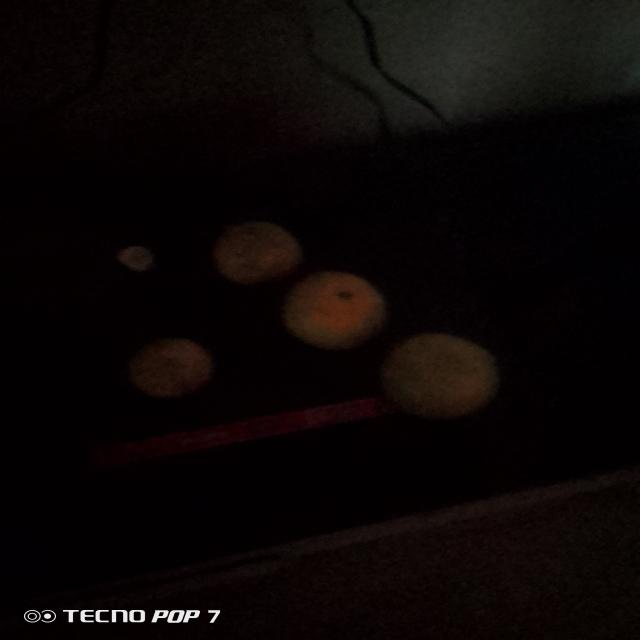Ripe orange: (382, 331, 504, 418), (293, 266, 384, 362), (120, 341, 209, 406), (220, 226, 298, 288)
